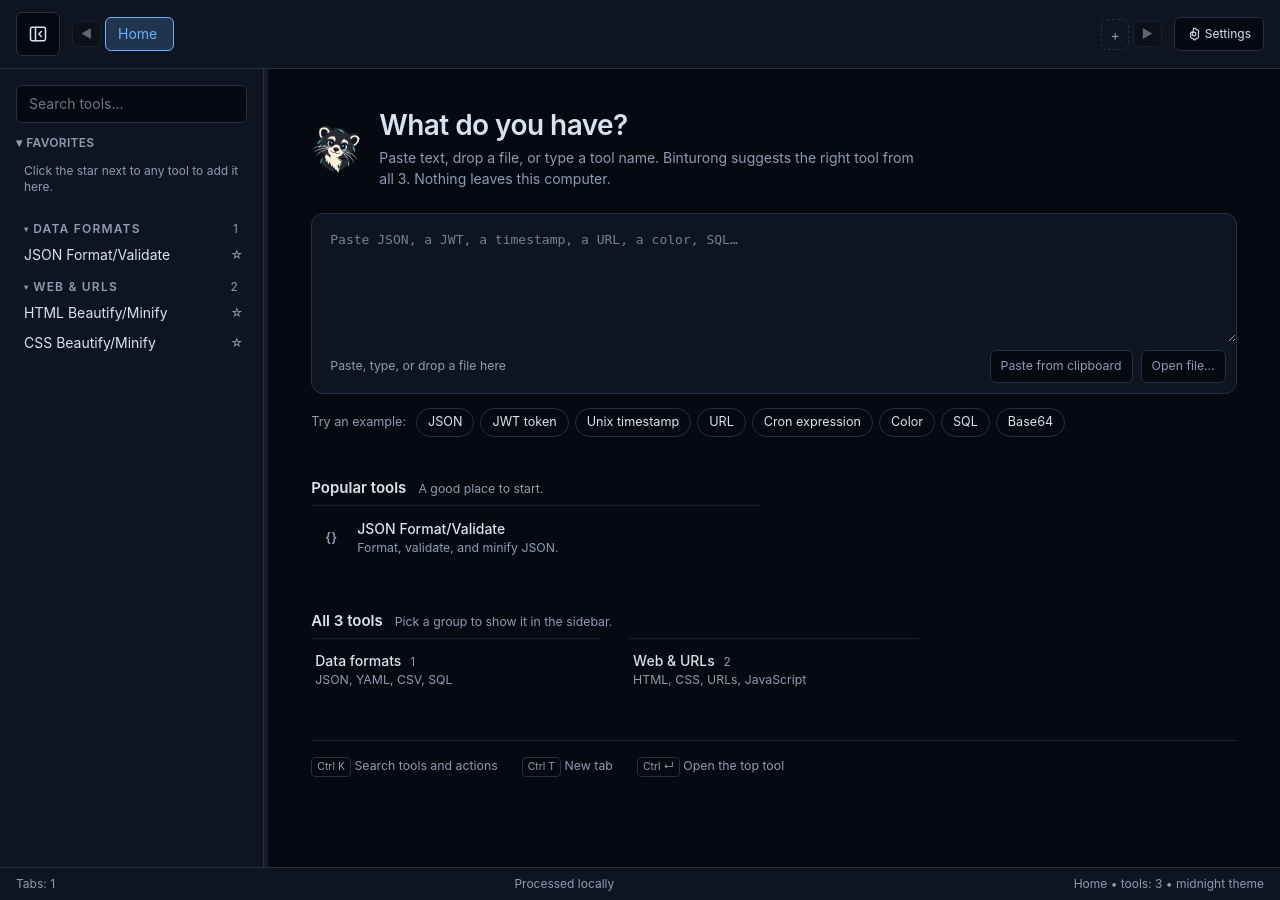
Test: App UI › renders sidebar tools grouped by category in canonical order
Expected: the heading "What do you have?" is shown, [379,108,628,142]
Step 1. Click the button "JSON Format/Validate" → [119, 255], box [16,241,222,269]
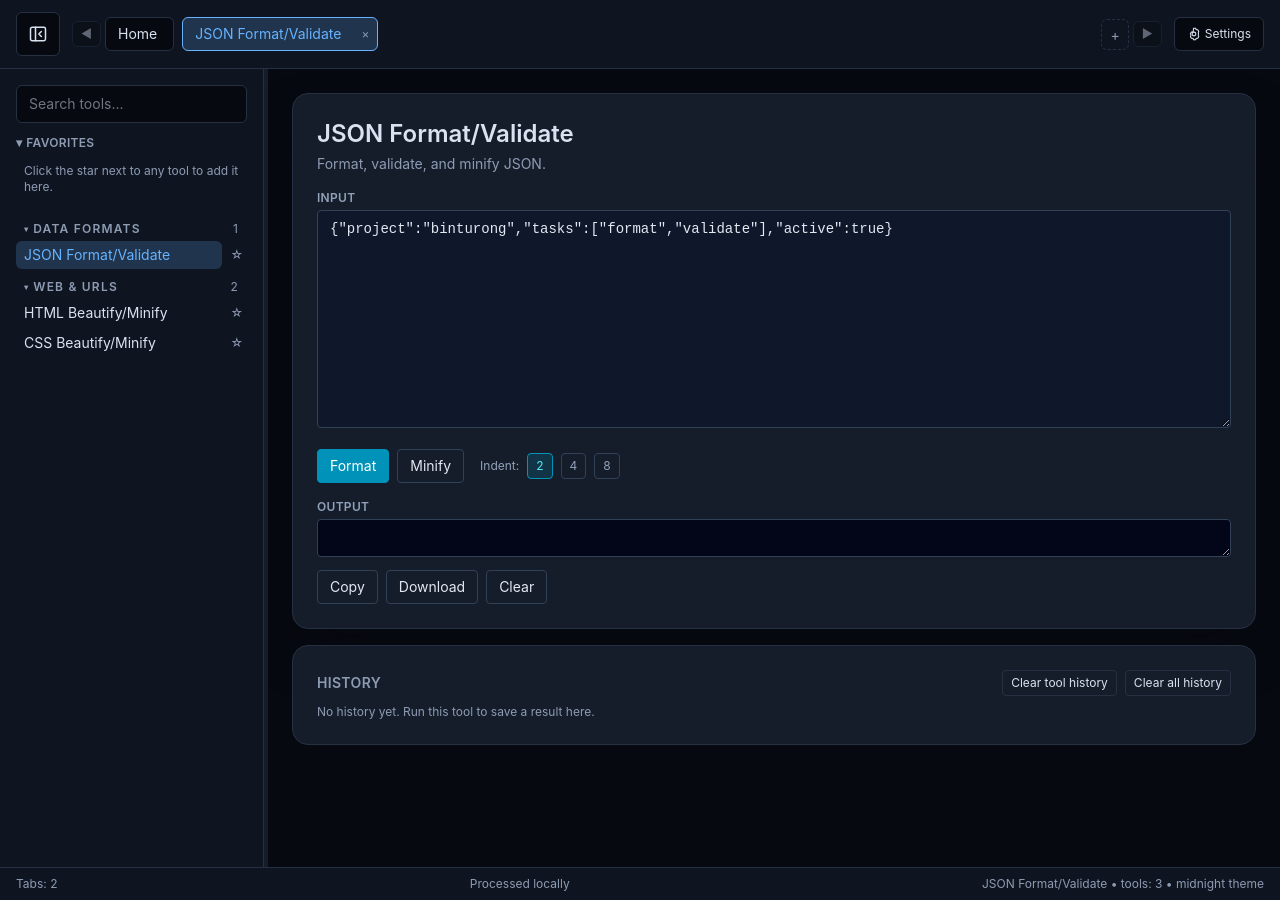
Expected: the button "▾ Data formats 1" is shown, [16,219,247,239]
Result: the heading "JSON Format/Validate" is shown at [317,119,574,148]
